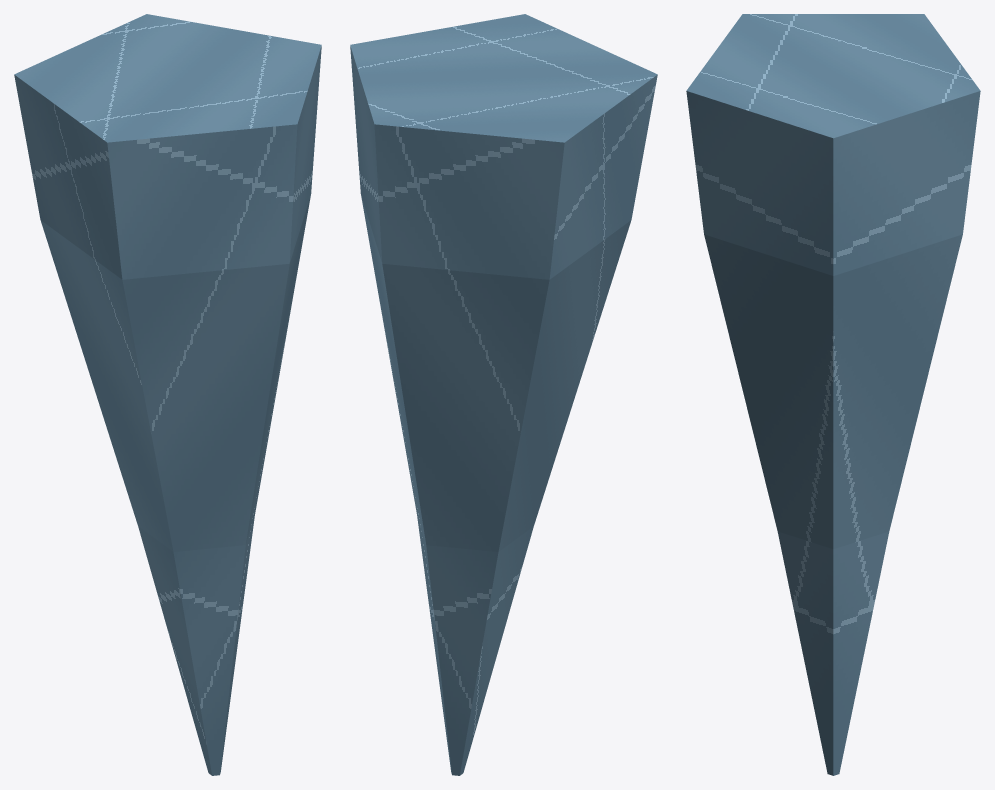
The model's file is icicle_short.glb.
The picture shows the model from 3 angles, left to right: view 1: azimuth 30°, elevation 25°; view 2: azimuth 150°, elevation 25°; view 3: azimuth 270°, elevation 25°; orthographic projection. The views are drawn at different scales.
Parts seen in each view (by area): view 1: icicle_short; view 2: icicle_short; view 3: icicle_short.
Boxes of the visible parts, box(x1,y1,x2,y2) form: icicle_short: box(14, 14, 321, 775); icicle_short: box(350, 14, 657, 775); icicle_short: box(686, 14, 980, 775).
Size of the model in its own units: 0.07 by 0.18 by 0.07.
Materials: 1 (1 with a texture image).
